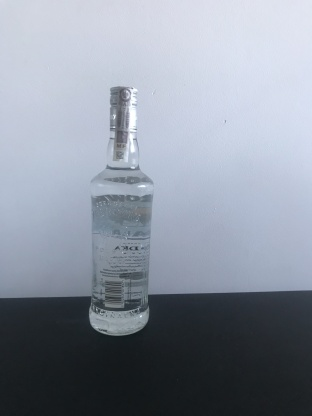nakretka: (107, 83, 139, 135)
